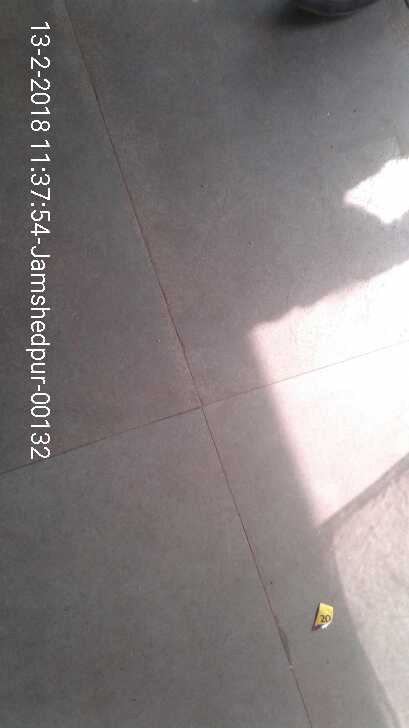reject: (81, 163, 180, 277)
